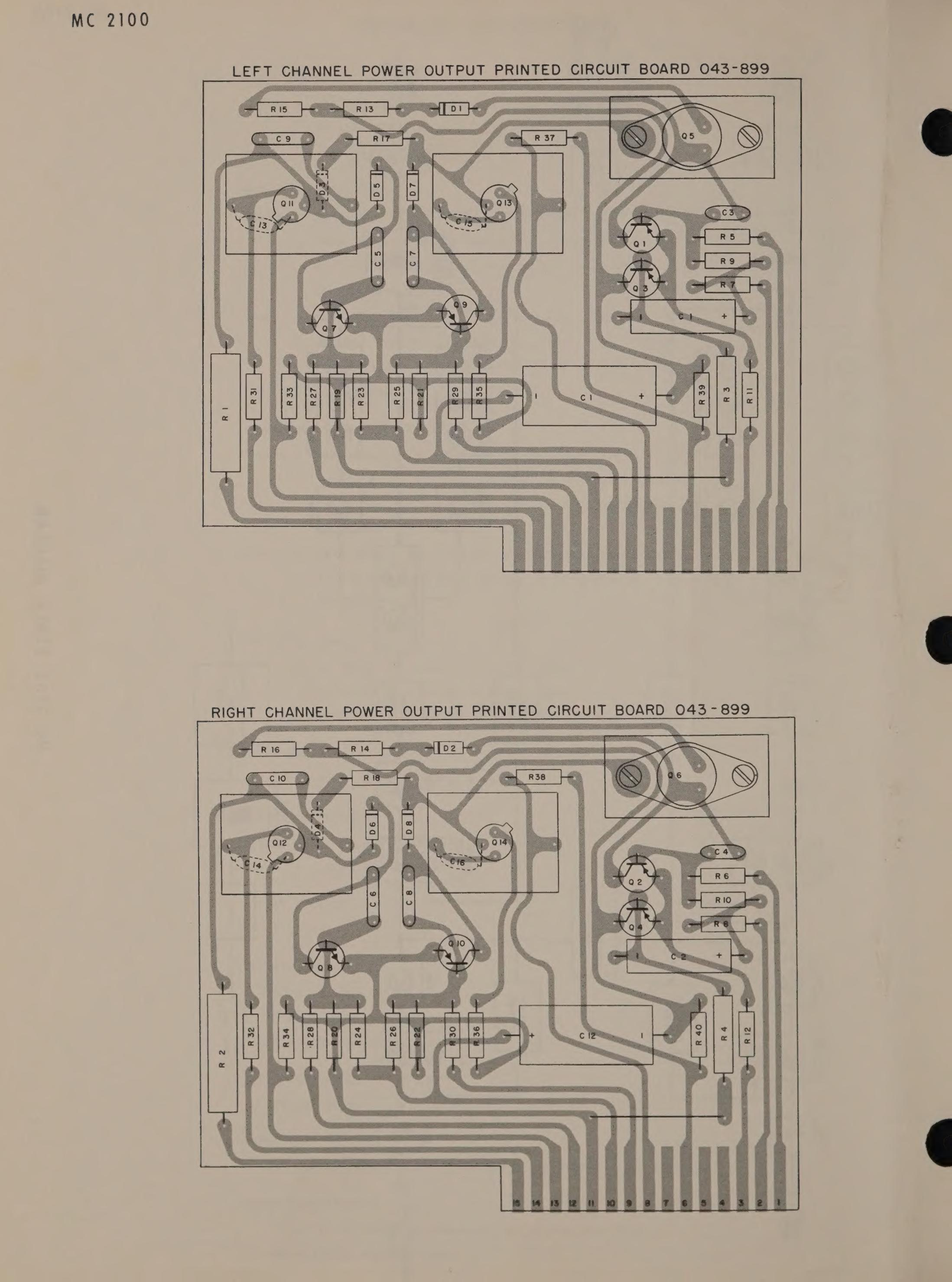C1: (676, 311, 696, 323), (579, 390, 595, 402)
C10: (267, 773, 289, 783)
C12: (577, 1029, 603, 1043)
C13: (246, 218, 270, 231)
C14: (241, 856, 263, 871)
C15: (454, 215, 474, 231)
C16: (447, 855, 467, 867)
C2: (668, 950, 690, 966)
C3: (721, 207, 735, 218)
C4: (712, 847, 730, 856)
C5: (374, 249, 382, 268)
C6: (368, 886, 378, 908)
C7: (408, 248, 418, 270)
C8: (405, 885, 415, 907)
D103: (451, 103, 465, 113)
D2: (441, 745, 458, 752)
D3: (317, 174, 327, 199)
D4: (314, 818, 322, 839)
D5: (370, 181, 382, 199)
D6: (366, 817, 376, 837)
D7: (407, 180, 418, 198)
D8: (404, 816, 413, 838)
Q1: (632, 239, 648, 250)
Q10: (446, 936, 466, 950)
Q11: (278, 197, 297, 209)
Q12: (271, 836, 289, 847)
Q13: (496, 198, 513, 209)
Q14: (489, 836, 510, 846)
Q2: (625, 874, 643, 888)
Q301: (632, 283, 648, 293)
Q4: (629, 921, 645, 933)
Q5: (678, 131, 696, 141)
Q6: (663, 770, 683, 782)
Q7: (321, 322, 338, 334)
Q8: (315, 962, 336, 971)
Q9: (450, 300, 471, 309)
R1: (220, 406, 231, 424)
R10: (711, 894, 735, 906)
R11: (744, 386, 755, 405)
R12: (740, 1021, 754, 1048)
R13: (353, 104, 375, 113)
R14: (349, 743, 372, 752)
R15: (264, 104, 292, 117)
R16: (259, 744, 286, 755)
R19: (332, 386, 344, 408)
R2: (215, 1046, 227, 1072)
R20: (329, 1024, 341, 1048)
R21: (414, 385, 426, 408)
R22: (410, 1025, 423, 1048)
R23: (356, 386, 366, 409)
R24: (354, 1023, 362, 1047)
R25: (391, 385, 402, 410)
R26: (386, 1022, 400, 1048)
R27: (308, 386, 320, 408)
R28: (304, 1024, 315, 1047)
R29: (450, 386, 461, 409)
R3: (719, 384, 732, 406)
R30: (446, 1022, 457, 1047)
R31: (248, 384, 259, 406)
R32: (245, 1026, 259, 1048)
R33: (284, 384, 295, 408)
R34: (280, 1025, 293, 1049)
R35: (474, 384, 485, 407)
R36: (470, 1024, 483, 1049)
R37: (532, 133, 557, 142)
R38: (526, 772, 549, 782)
R39: (696, 383, 707, 407)
R4: (719, 1024, 730, 1047)
R40: (691, 1021, 704, 1048)
R5: (719, 231, 739, 242)
R6: (712, 870, 731, 880)
R7: (716, 279, 740, 290)
R8: (712, 920, 729, 930)
R9: (718, 257, 736, 265)
